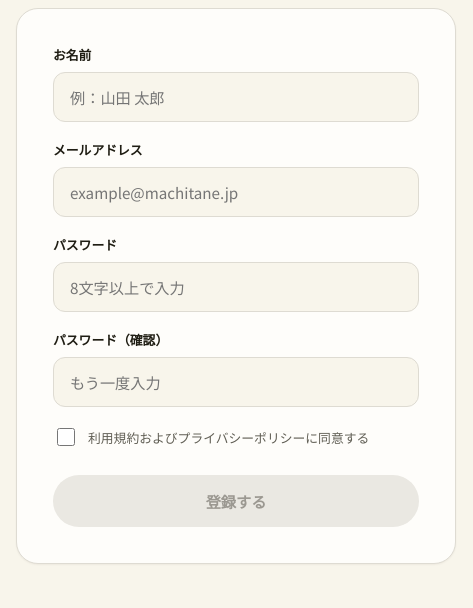
SignupForm › パスワードが8文字未満だとエラーになる
Type "山田太郎" into the field with id "signup-name" at (236, 97), box [53,72,419,122]
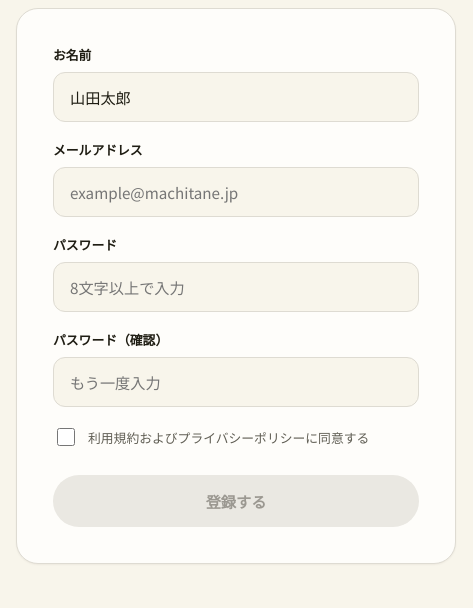
Type "taro@example.com" into the field with id "signup-email" at (236, 192), box [53,167,419,217]
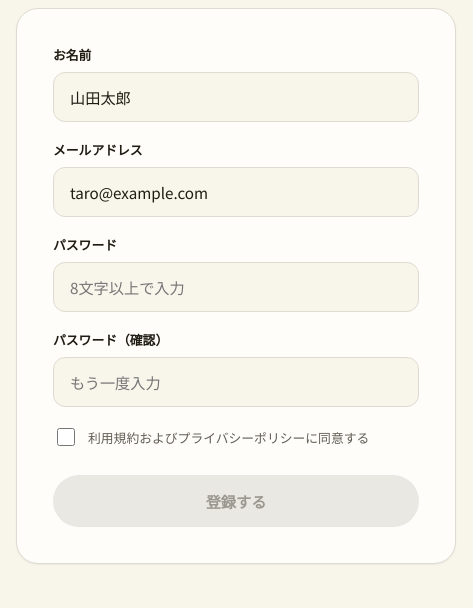
Type "short" into the password field with id "signup-password" at (236, 287), box [53,262,419,312]
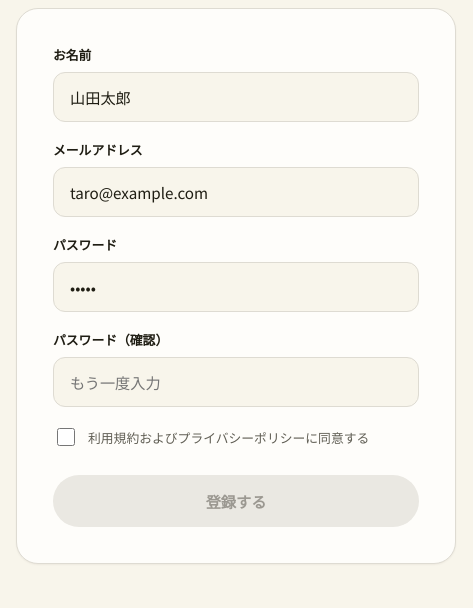
Type "short" into the password field with id "signup-password-confirmation" at (236, 382), box [53,357,419,407]
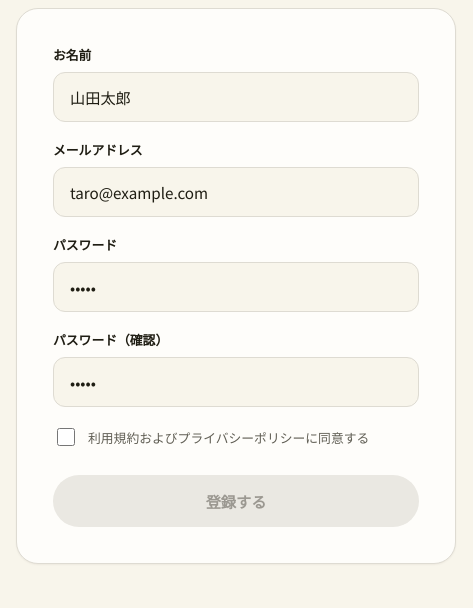
Click the checkbox labelled "利用規約およびプライバシーポリシーに同意する" at (66, 437), box [57,428,75,446]
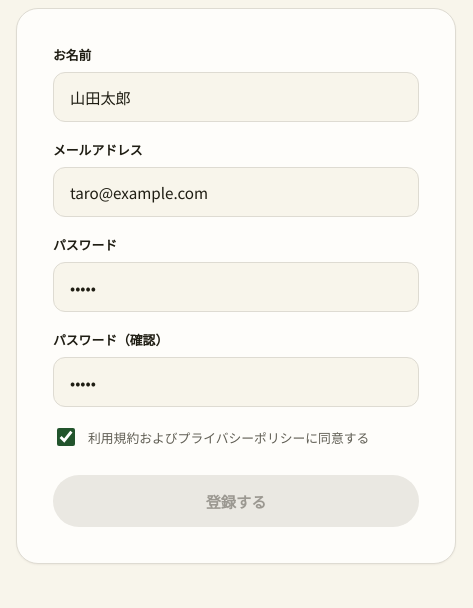
Submit the form
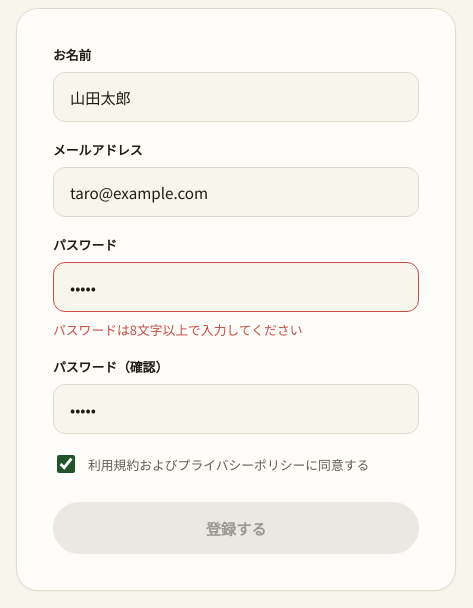
Now the form shows "8文字以上", box [53,320,302,339]
